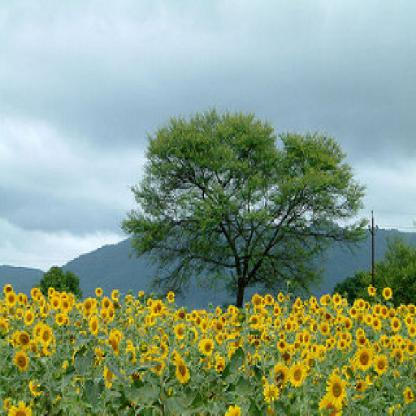SUN FLOWER: (1, 240, 415, 412)
